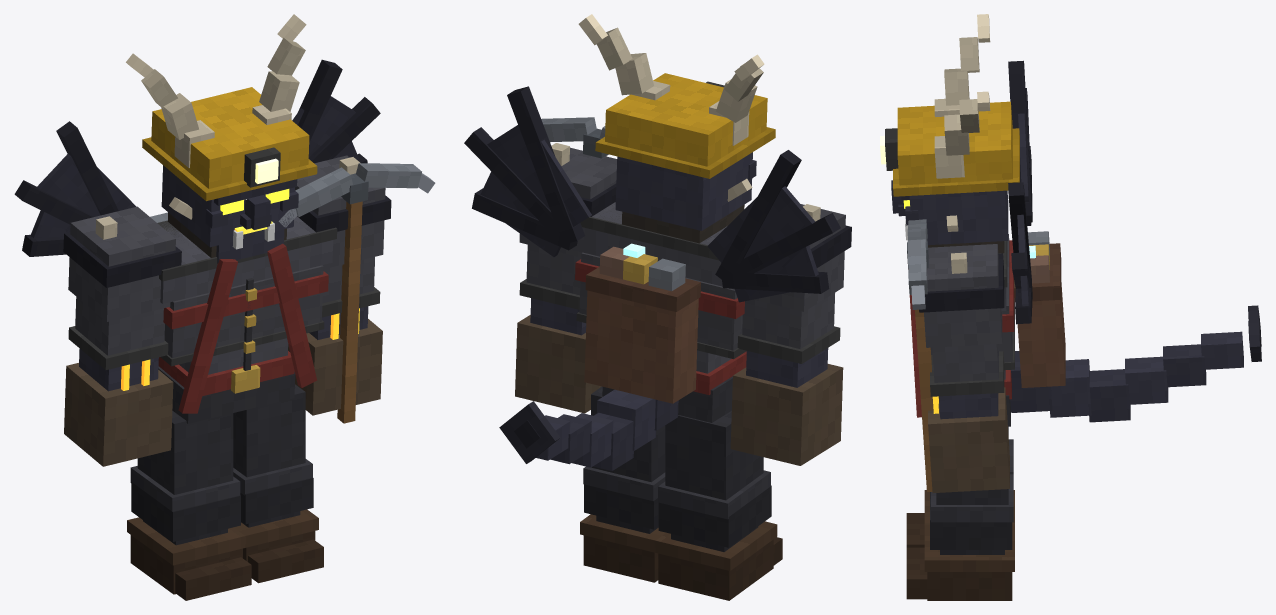
File: demon_mineur_v3.glb
3 views of the same model, side by side, from view 1: azimuth 30°, elevation 25°; view 2: azimuth 150°, elevation 25°; view 3: azimuth 270°, elevation 25° (orthographic). The views are drawn at different scales.
Visible parts, largest first — view 1: Torso, Head, ArmR, LegR, LegL, ArmL, HandL; view 2: Torso, Head, ArmR, LegR, ArmL, LegL, HandL; view 3: Torso, ArmL, Head, LegL, HandL, LegR.
Boxes of the visible parts, bbox=[...] form: Torso: bbox=[14, 59, 380, 423]; Head: bbox=[126, 14, 317, 263]; ArmR: bbox=[63, 206, 181, 466]; LegR: bbox=[127, 411, 251, 600]; LegL: bbox=[233, 384, 323, 583]; ArmL: bbox=[288, 155, 391, 415]; HandL: bbox=[278, 163, 435, 423]; Torso: bbox=[464, 86, 840, 470]; Head: bbox=[578, 14, 775, 243]; ArmR: bbox=[730, 204, 851, 465]; LegR: bbox=[654, 411, 782, 600]; ArmL: bbox=[515, 143, 616, 413]; LegL: bbox=[580, 386, 665, 582]; HandL: bbox=[541, 117, 608, 158]; Torso: bbox=[908, 60, 1261, 426]; ArmL: bbox=[919, 244, 1009, 492]; Head: bbox=[880, 14, 1019, 253]; LegL: bbox=[906, 426, 1014, 600]; HandL: bbox=[907, 219, 933, 491]; LegR: bbox=[906, 439, 1014, 547].
Size of the model in its own units: 1.6 by 2.2 by 1.48.
Materials: 47 (47 with a texture image).
